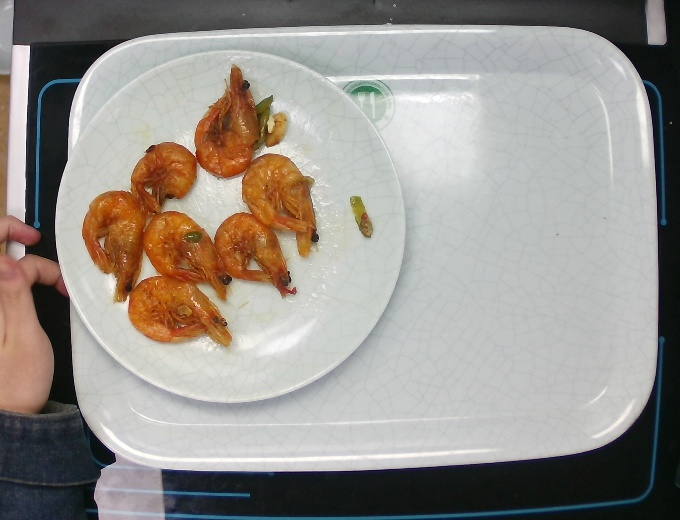JYsf-Da_Yuan_Pan: (48, 44, 408, 410)
